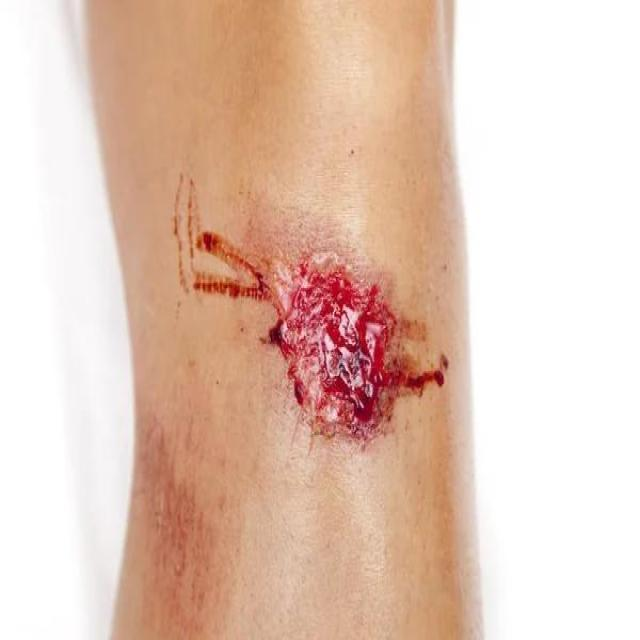flood: (257, 229, 449, 452)
